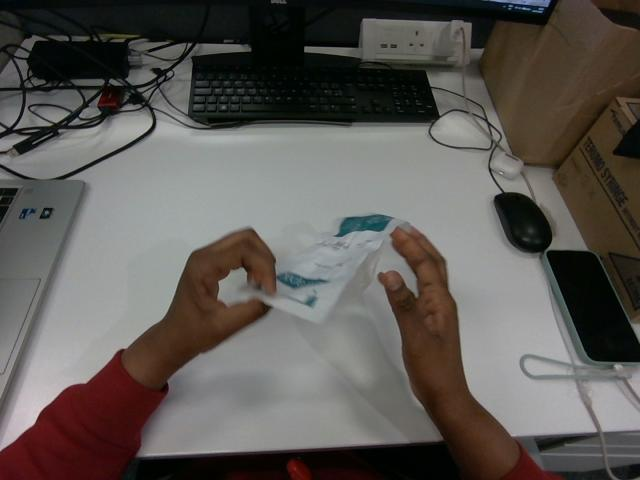gallipot: (255, 214, 408, 322)
